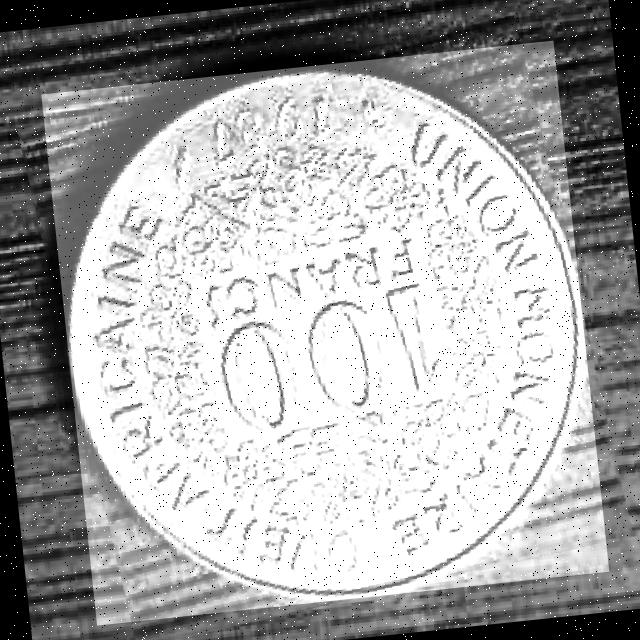niaari fukk: (68, 68, 581, 597)
